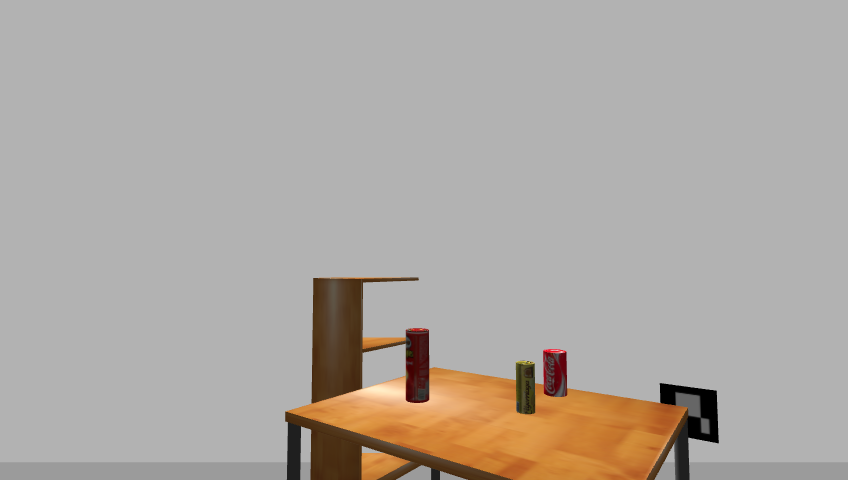aruco marker: (655, 381, 724, 445)
biscuits pack: (514, 361, 537, 415)
bookshelf: (301, 273, 423, 480)
coke can: (541, 348, 569, 398)
dinner table: (279, 369, 699, 480)
pringles can: (402, 328, 431, 405)
